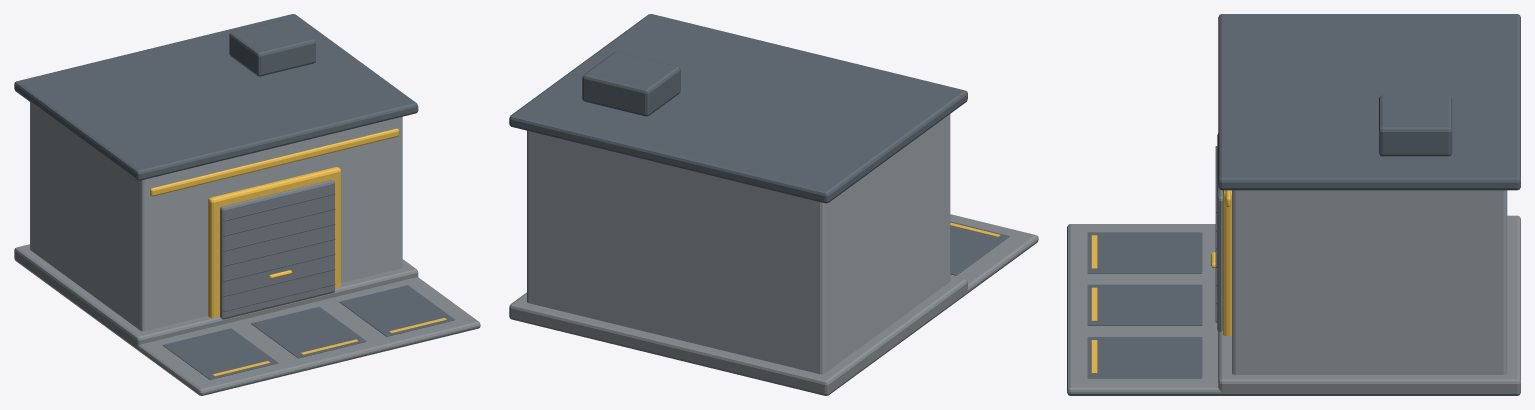
3 views of the same model, side by side, from view 1: azimuth 30°, elevation 25°; view 2: azimuth 150°, elevation 25°; view 3: azimuth 270°, elevation 25° (orthographic). The views are drawn at different scales.
Parts seen in each view (by area): view 1: Collector_Base; view 2: Collector_Base; view 3: Collector_Base.
Part boxes in pixels (x1=…): Collector_Base: x1=14, y1=14, x2=480, y2=395; Collector_Base: x1=509, y1=14, x2=1038, y2=395; Collector_Base: x1=1067, y1=14, x2=1520, y2=395.
Bounding box in the file's own units: 430 × 298 × 495.
